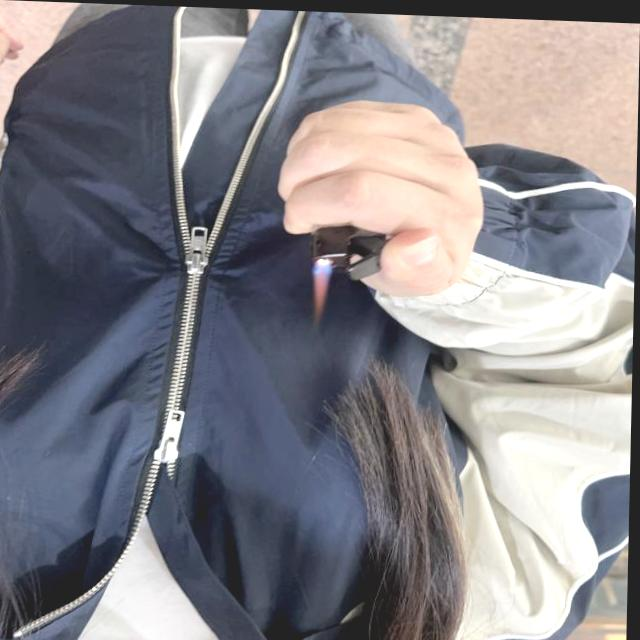Fire: (313, 262, 333, 314)
